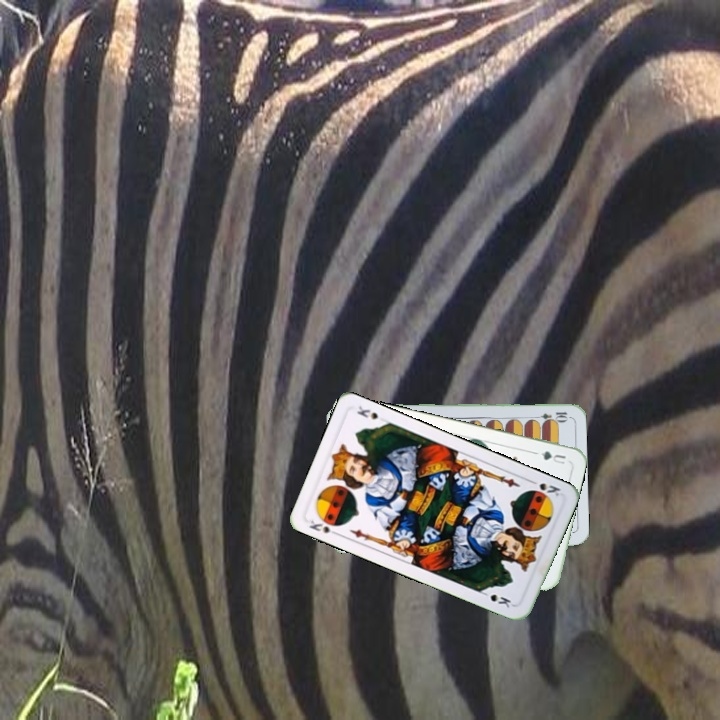E10: (530, 408, 570, 422)
GU: (536, 447, 568, 467)
SK: (525, 476, 563, 499), (305, 516, 342, 538)
